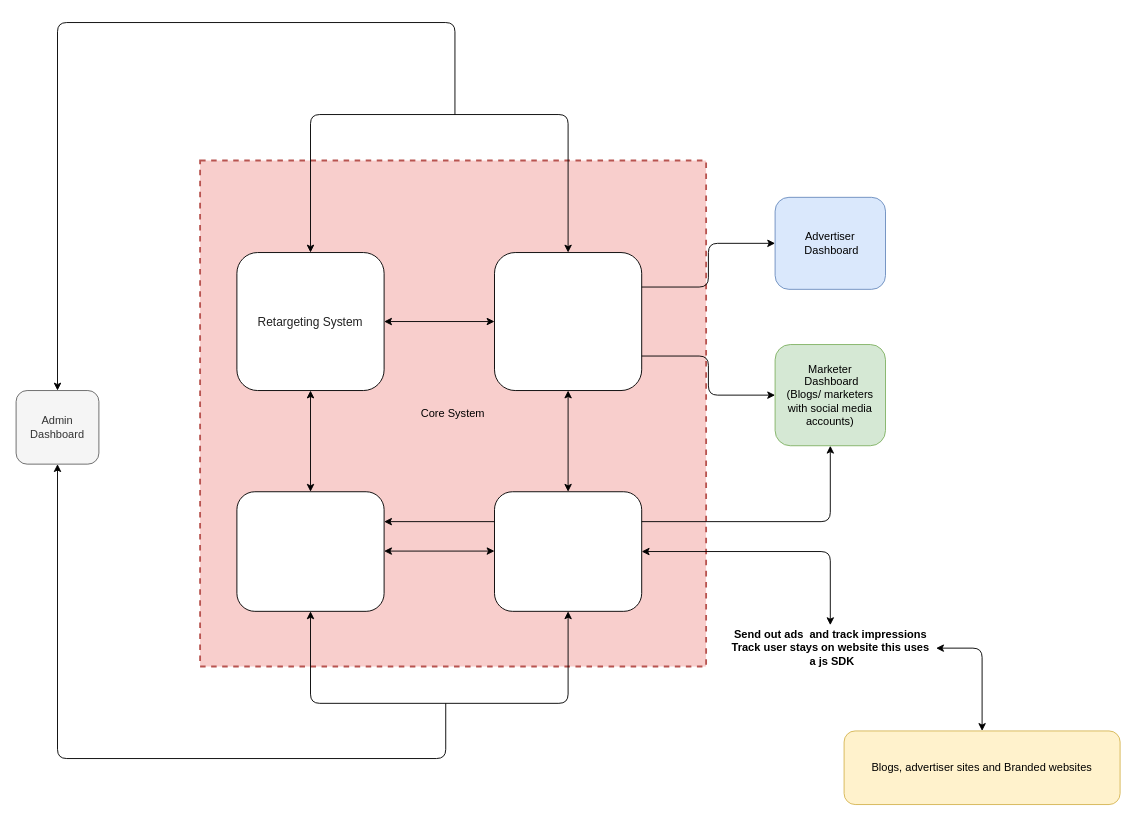
This 1136x821 diagram has some shape labels left out. The centre of each missing label's shape, as x and y in pixels:
"Affiliate Marketing" goes at [310,551].
"Branding System" goes at [568,321].
"FingerPrinting and Impression System" goes at [568,551].
